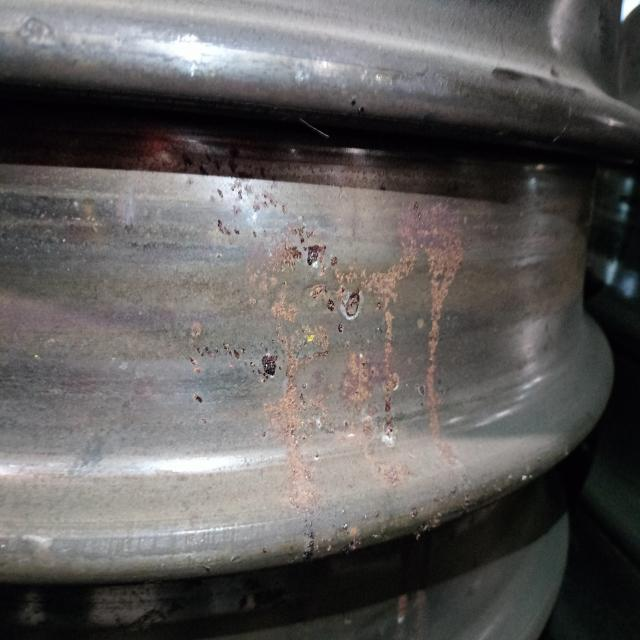Blue hole: (248, 344, 295, 392), (331, 284, 371, 334), (296, 233, 333, 271)
